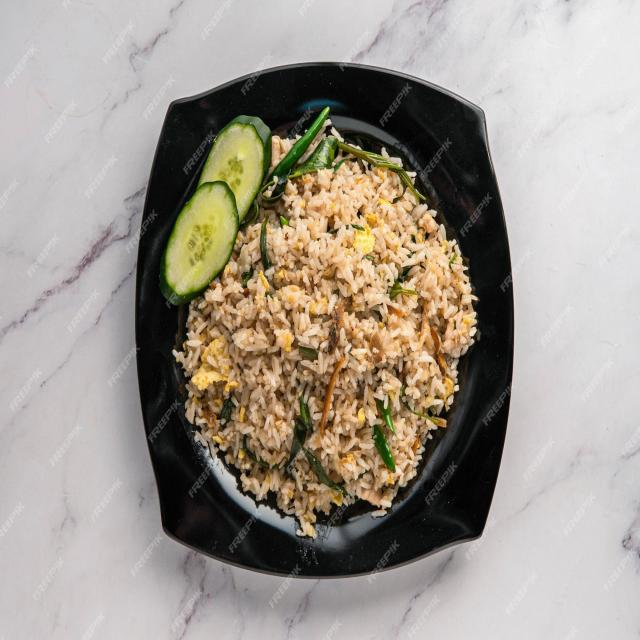Nasi Goreng: (163, 108, 480, 539)
